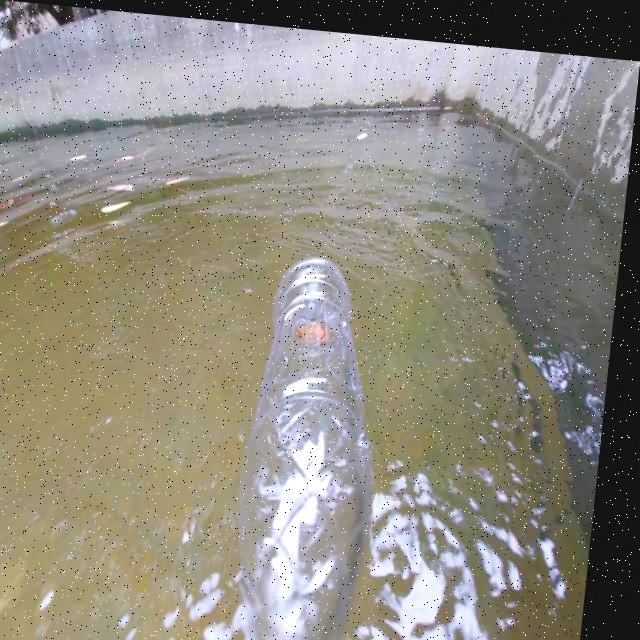waterbottle: (210, 222, 413, 640)
